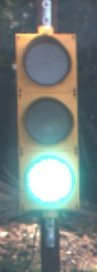Green: (11, 22, 82, 232)
